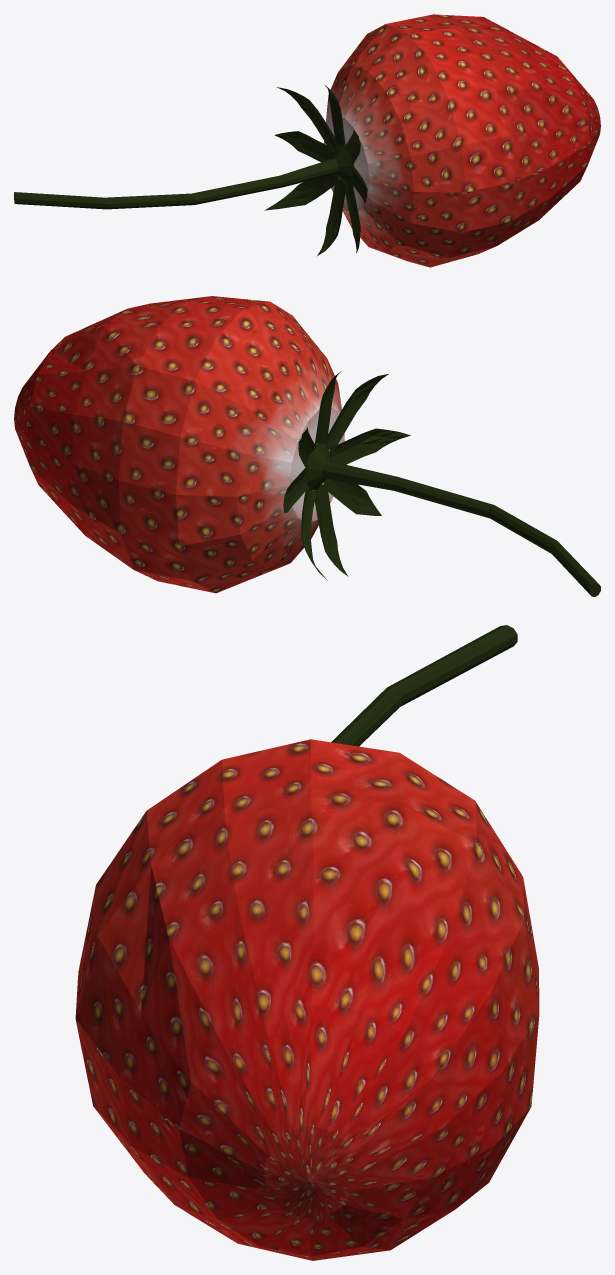
The model's file is StrawberryFruit.obj.
The picture shows the model from 3 angles, top to bottom: view 1: azimuth 30°, elevation 25°; view 2: azimuth 150°, elevation 25°; view 3: azimuth 270°, elevation 25°; orthographic projection. The views are drawn at different scales.
Visible parts, largest first — view 1: fruit, sepal; view 2: fruit, sepal; view 3: fruit, sepal.
Boxes of the visible parts, x1,y1,x2,y2 form: fruit: [323, 14, 600, 267]; sepal: [14, 85, 367, 255]; fruit: [14, 296, 344, 593]; sepal: [283, 371, 600, 596]; fruit: [75, 739, 539, 1260]; sepal: [331, 625, 517, 746].
Size of the model in its own units: 2.13 by 0.8705 by 0.8022.
